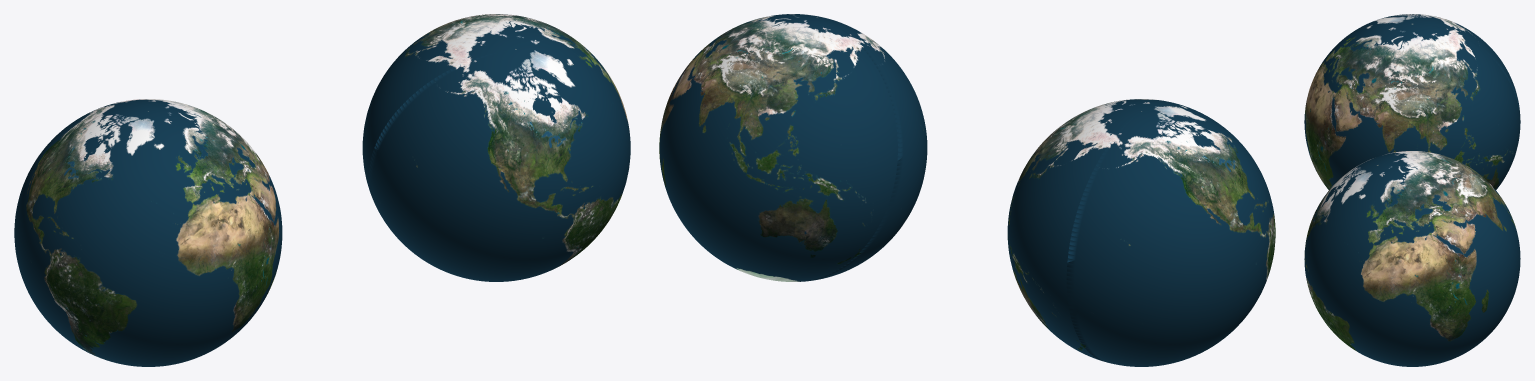
The model's file is SphRot.obj.
The picture shows the model from 3 angles, left to right: view 1: azimuth 30°, elevation 25°; view 2: azimuth 150°, elevation 25°; view 3: azimuth 270°, elevation 25°; orthographic projection. The views are drawn at different scales.
Bounding box in the file's own units: 16.12 × 6.45 × 6.45.
Materials: 2 (2 with a texture image).
